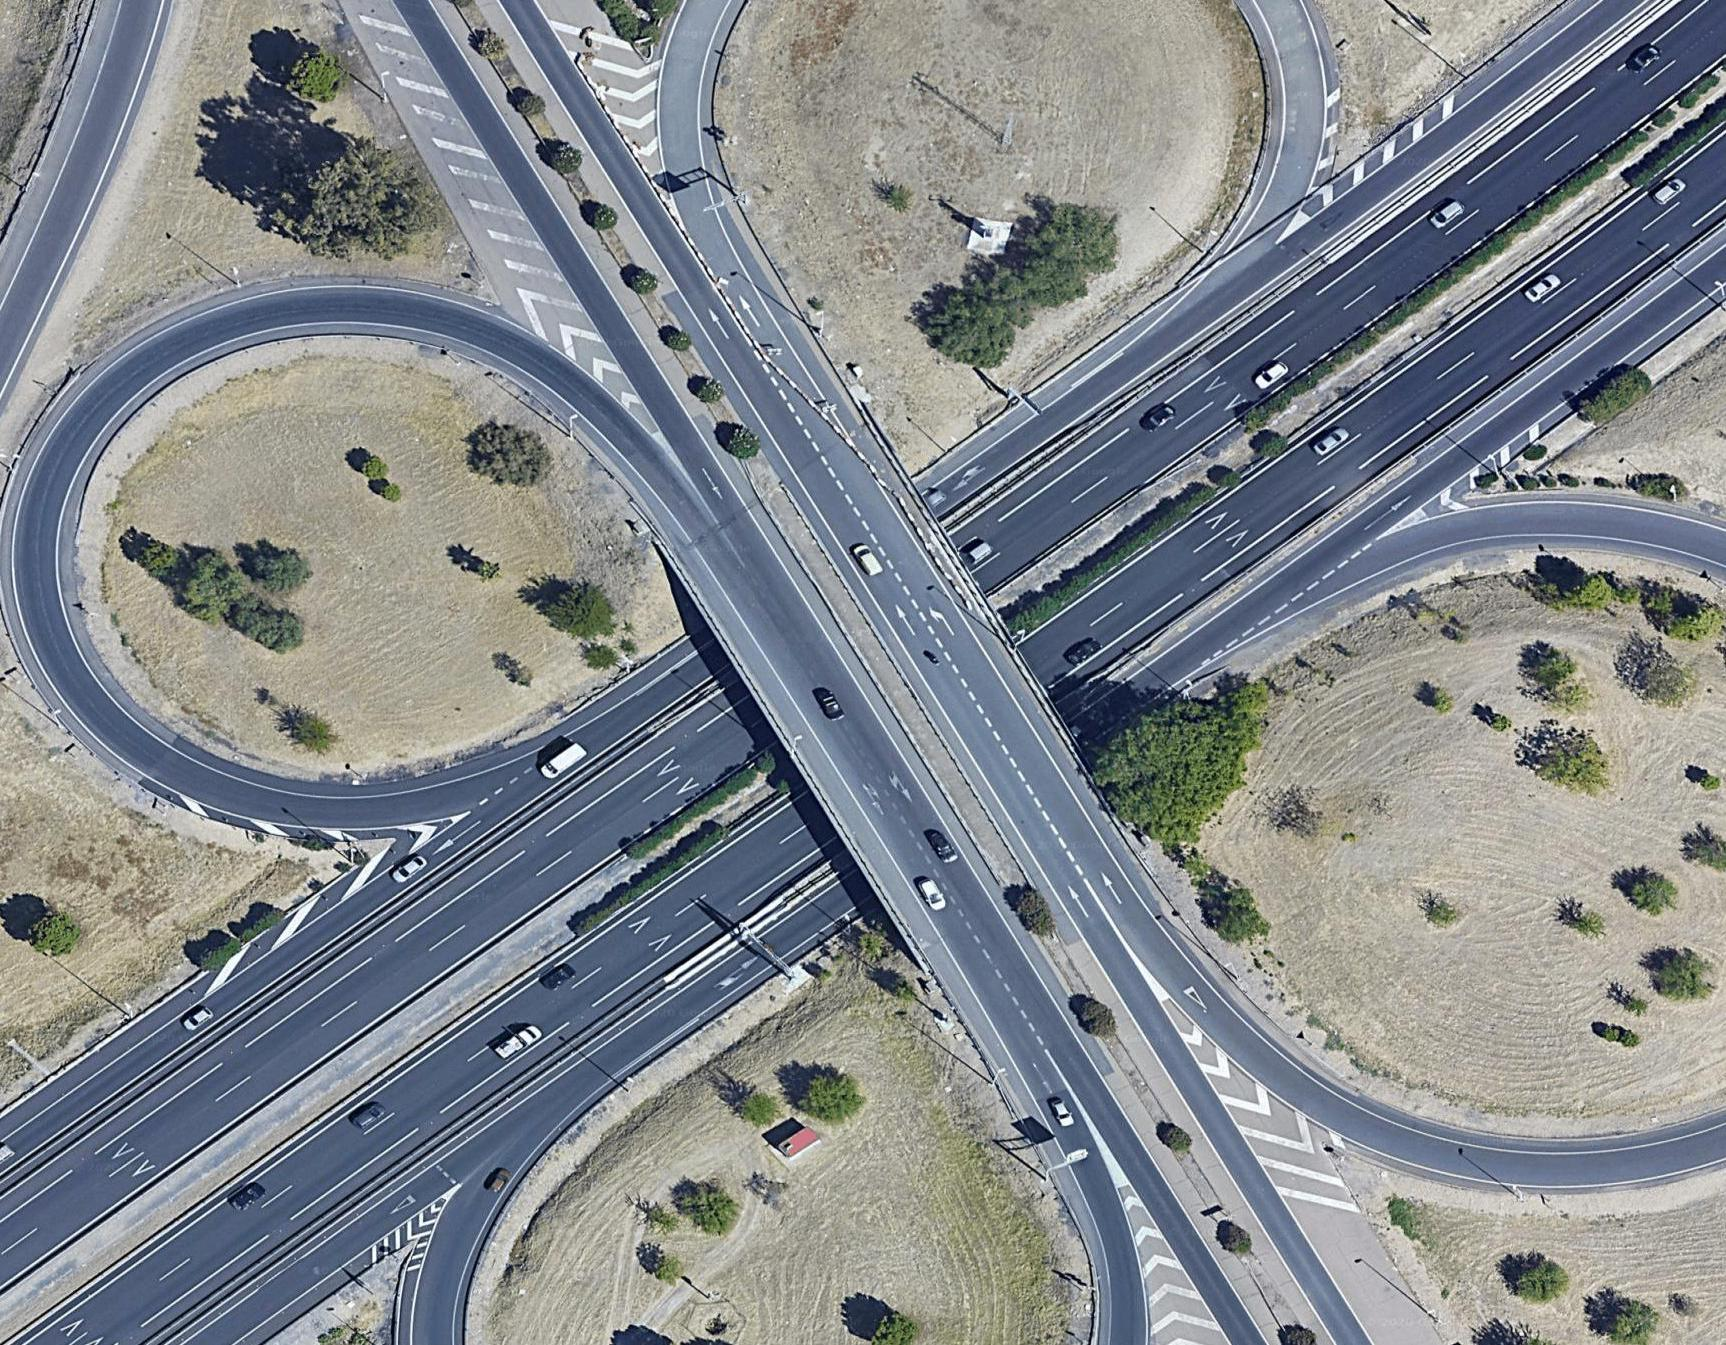bridge: (660, 576, 1194, 932)
small-vehicle: (1311, 420, 1355, 460), (1252, 356, 1296, 389), (1526, 266, 1563, 303), (1430, 198, 1467, 233), (391, 853, 426, 888), (1627, 41, 1663, 74), (1652, 172, 1687, 206), (179, 1002, 214, 1034), (961, 534, 995, 566)
